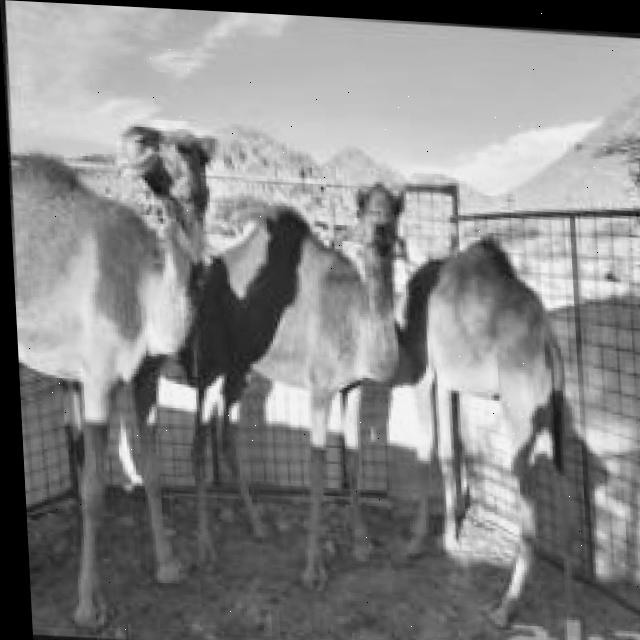Camel: (6, 115, 243, 637), (176, 169, 443, 597), (390, 227, 616, 636)
